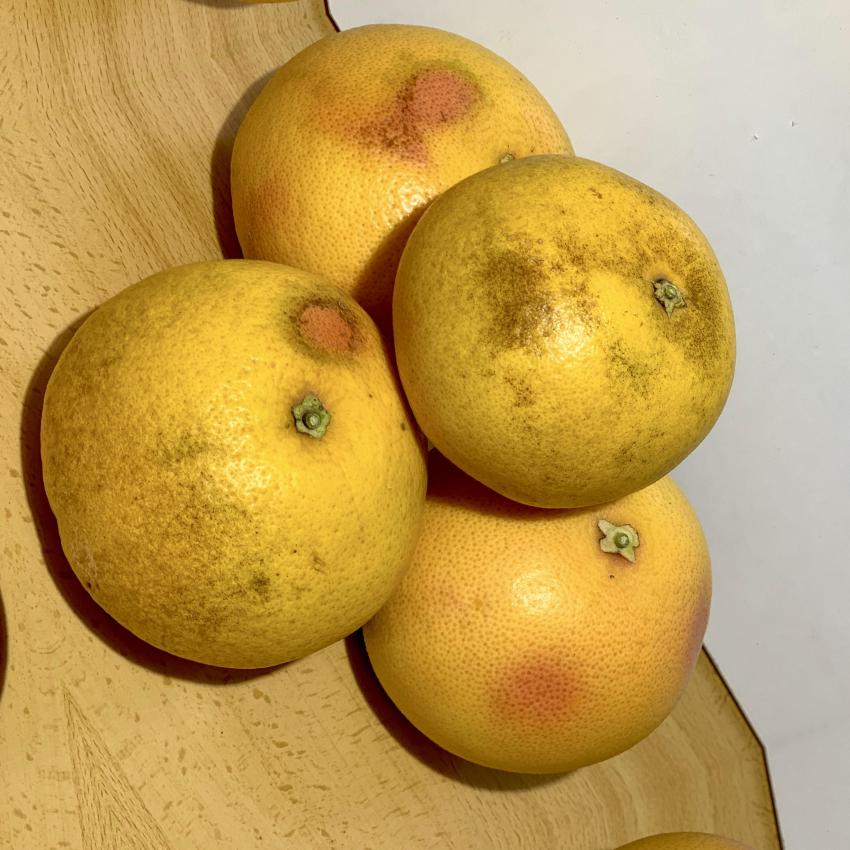Mal estado: (30, 262, 425, 686), (368, 418, 744, 792), (392, 152, 744, 530), (228, 18, 584, 312)
